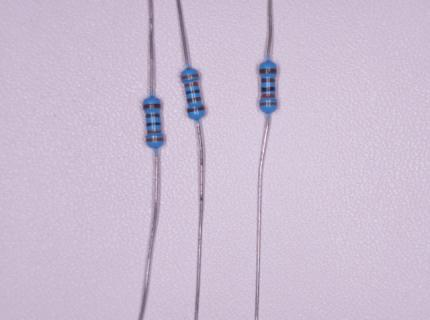Black band: (186, 88, 200, 95), (261, 87, 275, 92), (147, 123, 161, 126)
Brown band: (187, 106, 205, 113), (187, 96, 202, 103), (143, 104, 161, 109), (261, 78, 276, 83), (259, 69, 277, 73), (146, 114, 160, 118)
Orange band: (181, 74, 199, 80), (146, 137, 164, 142), (184, 82, 199, 88), (147, 129, 162, 134), (259, 102, 277, 106), (261, 94, 276, 98)
